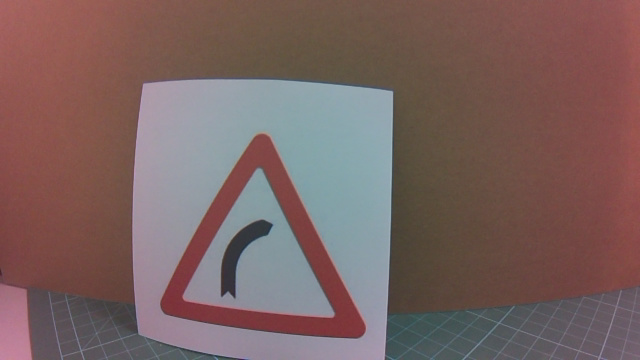right: (175, 153, 353, 329)
